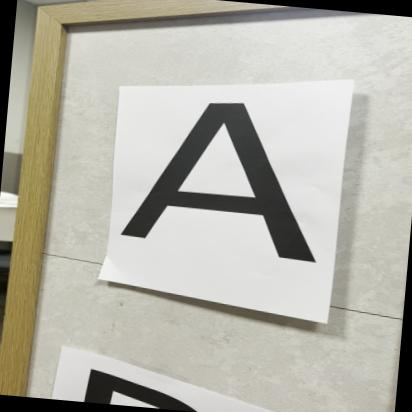seat: (121, 91, 330, 272)
